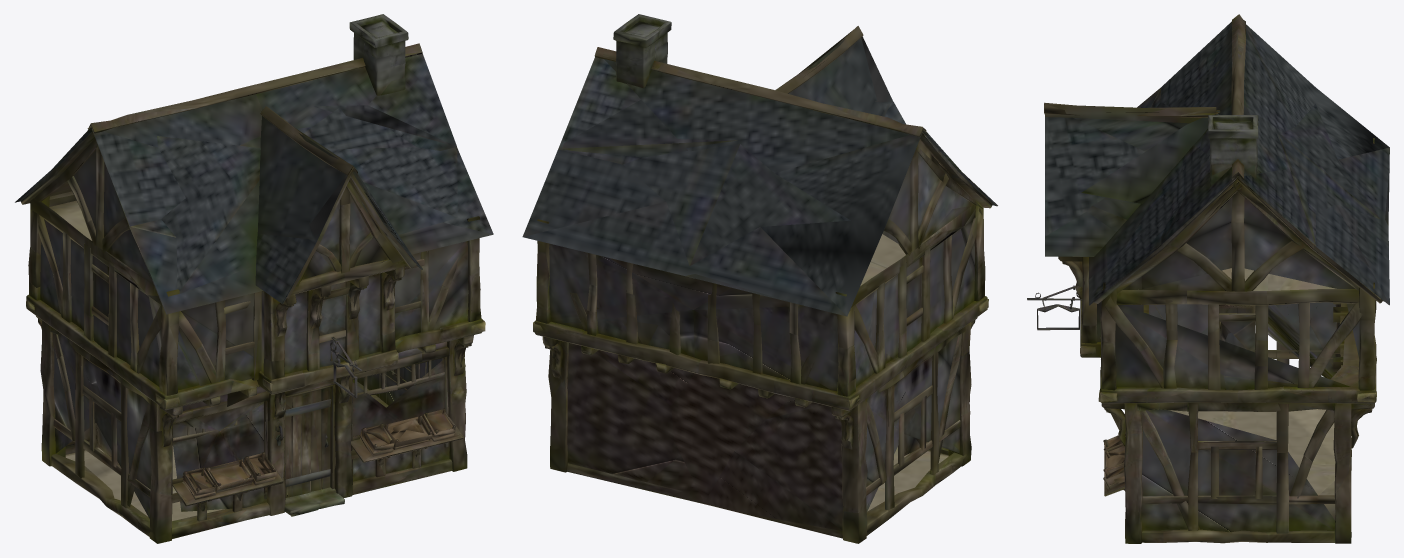
File: shophouse.glb
3 renders of one model, left to right at view 1: azimuth 30°, elevation 25°; view 2: azimuth 150°, elevation 25°; view 3: azimuth 270°, elevation 25°, orthographic.
Parts seen in each view (by area): view 1: shophouse_p2; view 2: shophouse_p2; view 3: shophouse_p2.
Part boxes in pixels (left/top/right/bottom): shophouse_p2: left=15, top=14, right=493, bottom=543; shophouse_p2: left=522, top=14, right=997, bottom=543; shophouse_p2: left=1027, top=14, right=1389, bottom=543.
Bounding box in the file's own units: 4.76 × 5.67 × 4.6.
Materials: 1 (1 with a texture image).
